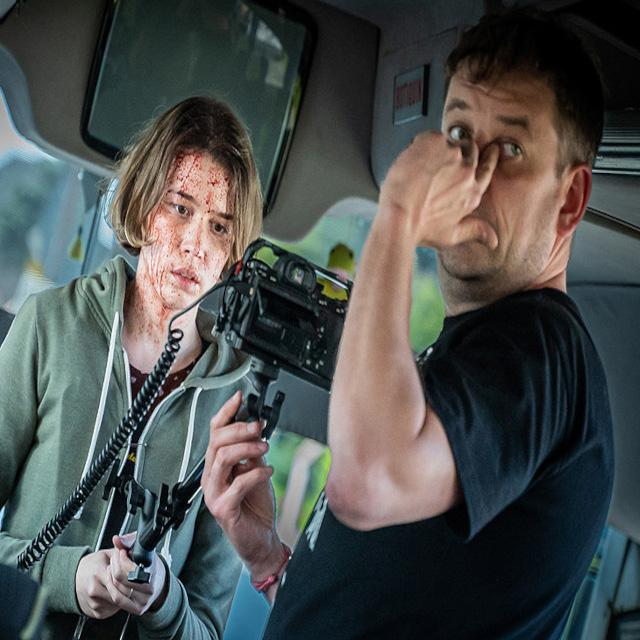kobieta: (0, 94, 253, 640)
mezczyzna: (340, 12, 617, 640)
